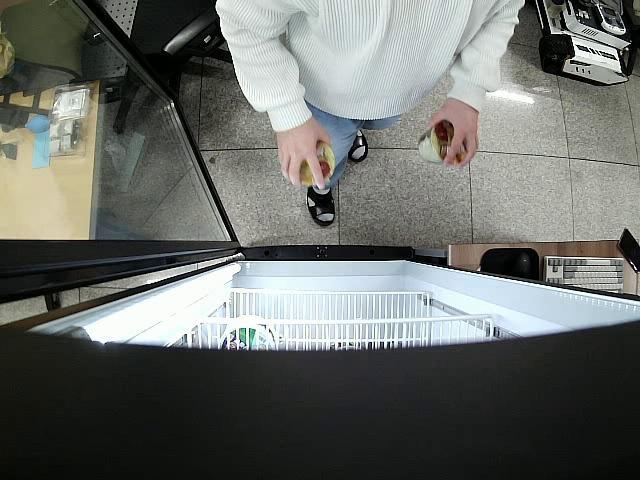04_chapagetti_S: (418, 120, 465, 167), (296, 142, 334, 186)
